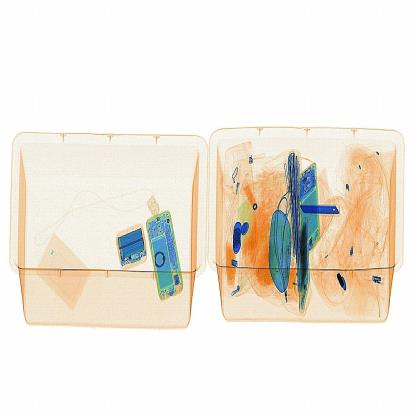pliers: (299, 198, 346, 227)
